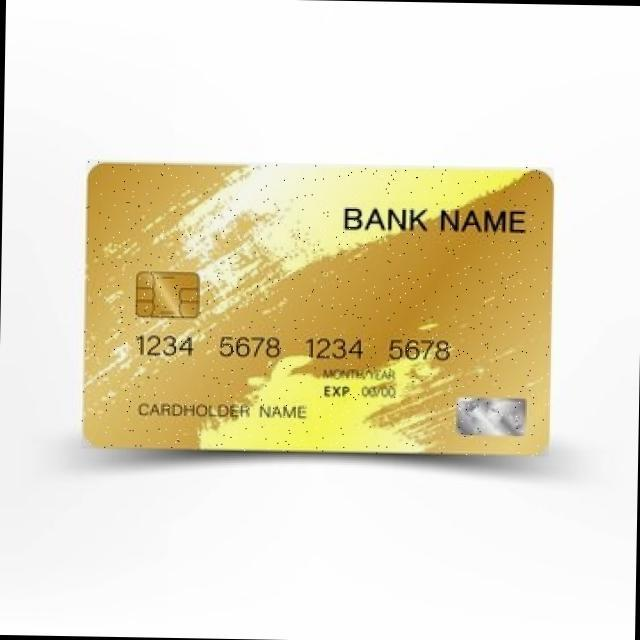payment_card: (81, 161, 554, 456)
